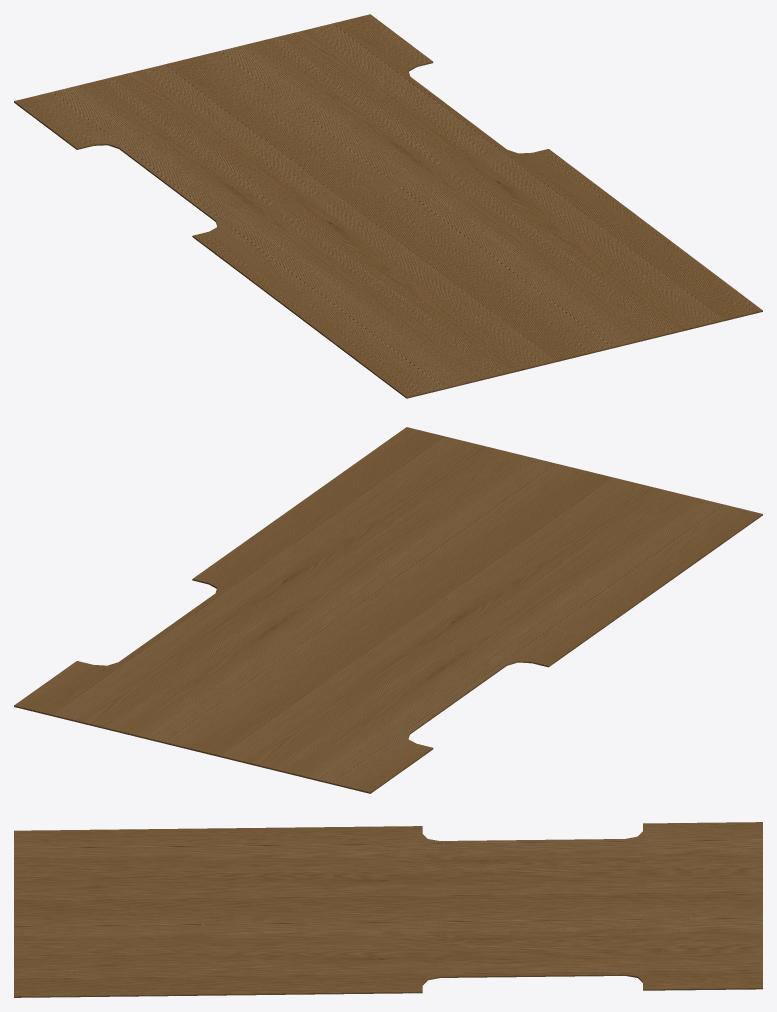
Rendered from flooring-three.glb.
The picture shows the model from 3 angles, top to bottom: view 1: azimuth 30°, elevation 25°; view 2: azimuth 150°, elevation 25°; view 3: azimuth 270°, elevation 25°; orthographic projection. The views are drawn at different scales.
Parts seen in each view (by area): view 1: Van_body.002; view 2: Van_body.002; view 3: Van_body.002.
Boxes of the visible parts, bbox=[...] form: Van_body.002: bbox=[14, 14, 762, 398]; Van_body.002: bbox=[14, 427, 762, 793]; Van_body.002: bbox=[14, 822, 762, 997].
Bounding box in the file's own units: 1.71 × 0.0477 × 3.27.
1 material, 1 textured.
